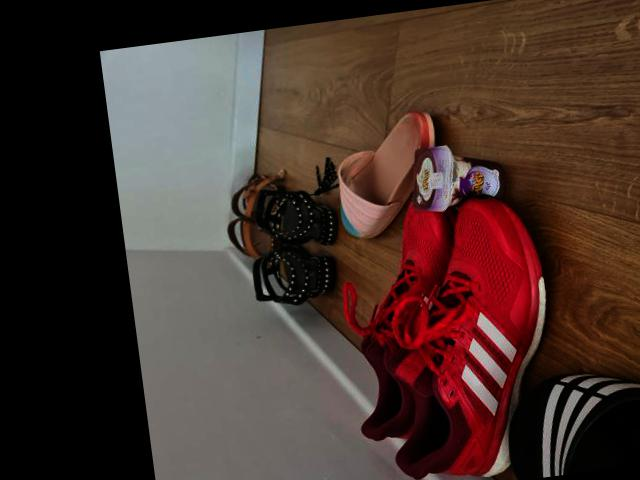milky: (410, 139, 505, 216)
